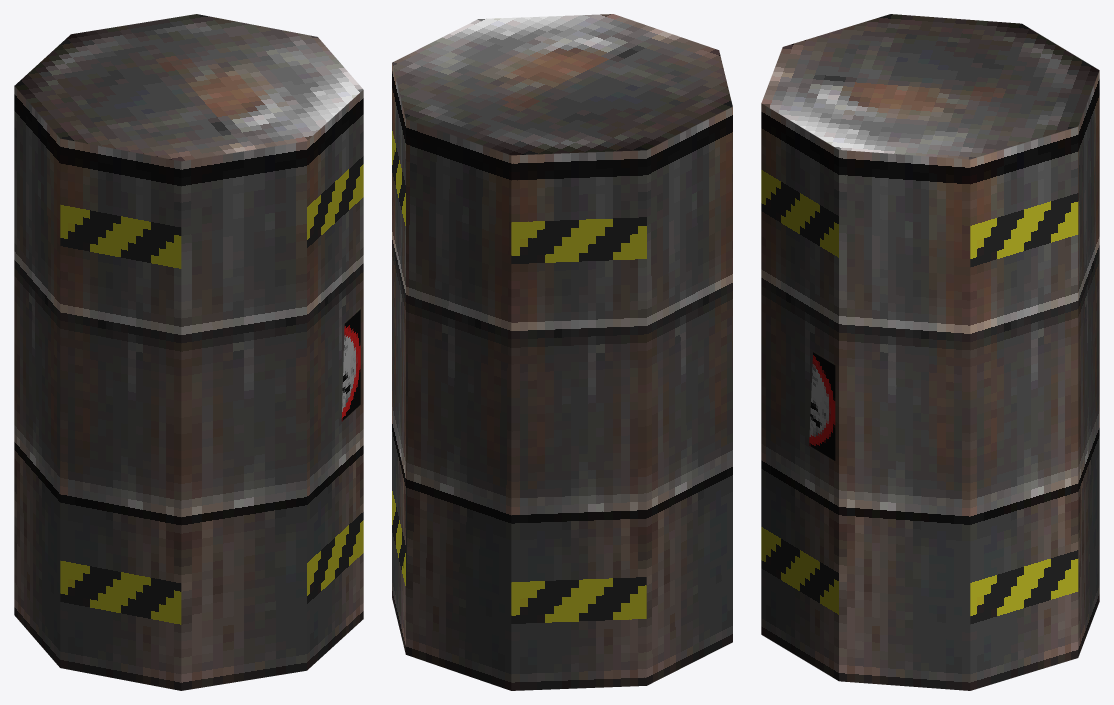
Rendered from primary_034.glb.
The picture shows the model from 3 angles, left to right: view 1: azimuth 30°, elevation 25°; view 2: azimuth 150°, elevation 25°; view 3: azimuth 270°, elevation 25°; orthographic projection.
Visible parts, largest first — view 1: Object; view 2: Object; view 3: Object.
Part boxes in pixels (<box>): Object: <box>14,14,363,690</box>; Object: <box>392,14,732,690</box>; Object: <box>761,14,1099,690</box>.
Size of the model in its own units: 0.8933 by 1.52 by 0.877.
9 materials, 9 textured.
